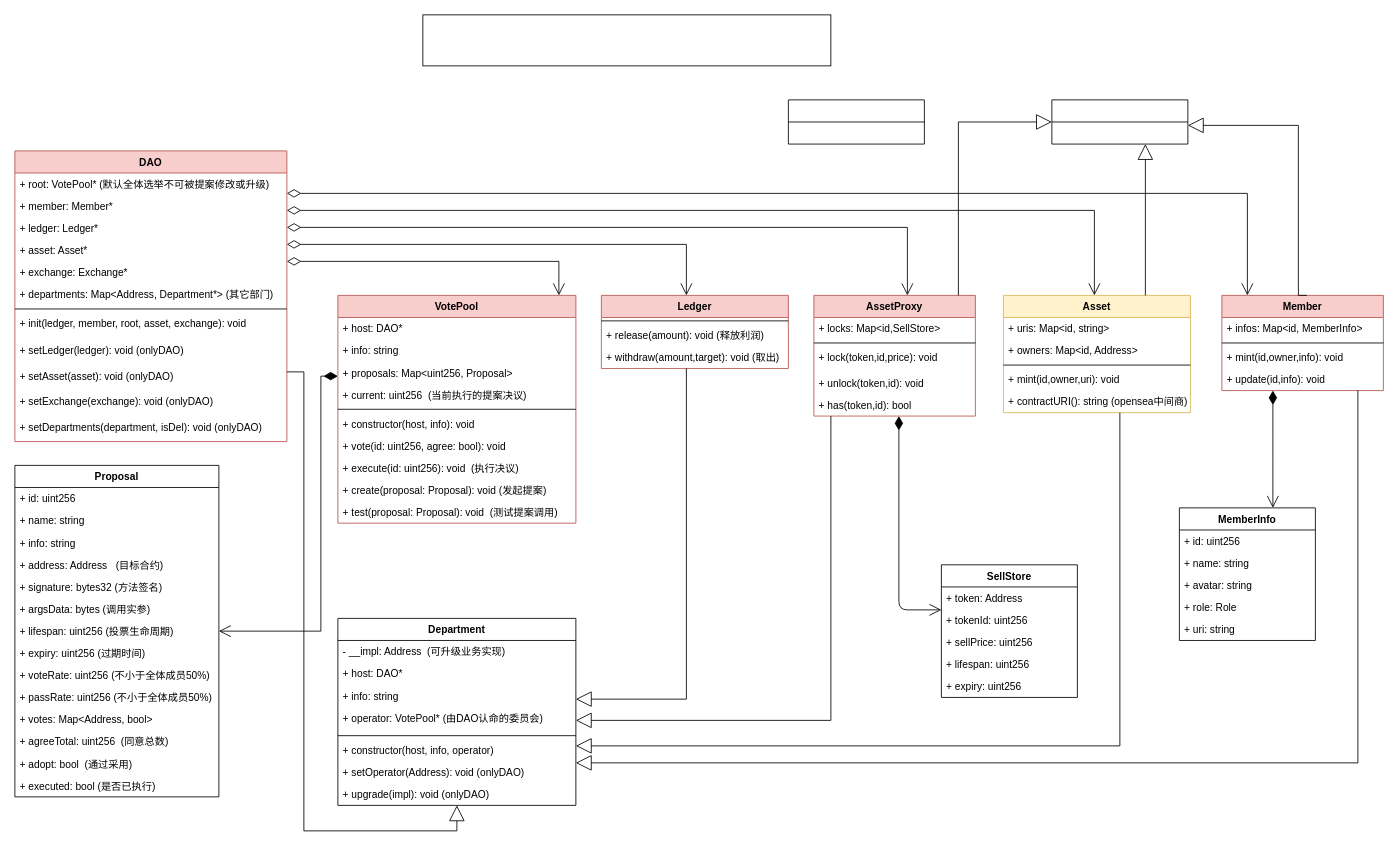
Image size: 1398x861. Some labels were removed from this diagram. The centre of each missing label's shape, as x and y in pixels:
DAO 软件实现UML: the point at 626,40
IERC721: the point at 1119,121
IERC721Receiver: the point at 856,121
